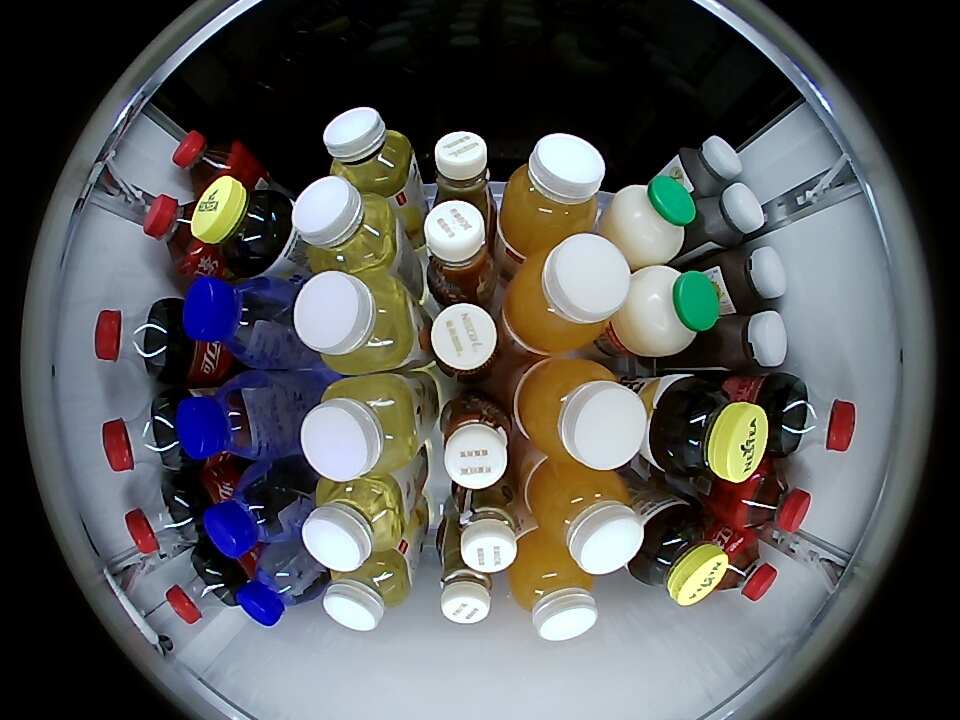aerbeisi: (182, 275, 297, 368), (175, 373, 285, 464), (203, 467, 302, 558), (237, 542, 322, 627)
binghongcha: (729, 461, 813, 535), (143, 194, 206, 272), (171, 129, 244, 195), (712, 529, 778, 602)
chacui: (650, 376, 769, 483), (629, 500, 729, 605), (192, 176, 296, 276)
chapai2: (293, 270, 418, 374), (301, 374, 420, 481), (292, 176, 398, 273), (302, 475, 407, 571), (323, 106, 416, 195), (322, 549, 412, 631)
kafei: (423, 199, 497, 303), (439, 392, 514, 490), (451, 479, 521, 573), (427, 130, 495, 226), (430, 303, 504, 383), (438, 538, 494, 624)
kele-b: (95, 298, 181, 378), (102, 395, 185, 473), (777, 379, 856, 457), (125, 480, 202, 557), (165, 548, 242, 624)
liziyuan: (614, 265, 720, 358), (603, 174, 696, 266)
weic: (504, 233, 630, 356), (515, 358, 648, 470), (524, 459, 643, 574), (499, 133, 606, 256), (508, 530, 598, 641)
youyanggudong: (694, 183, 767, 250), (719, 246, 788, 312), (718, 310, 789, 372), (677, 135, 743, 196)
